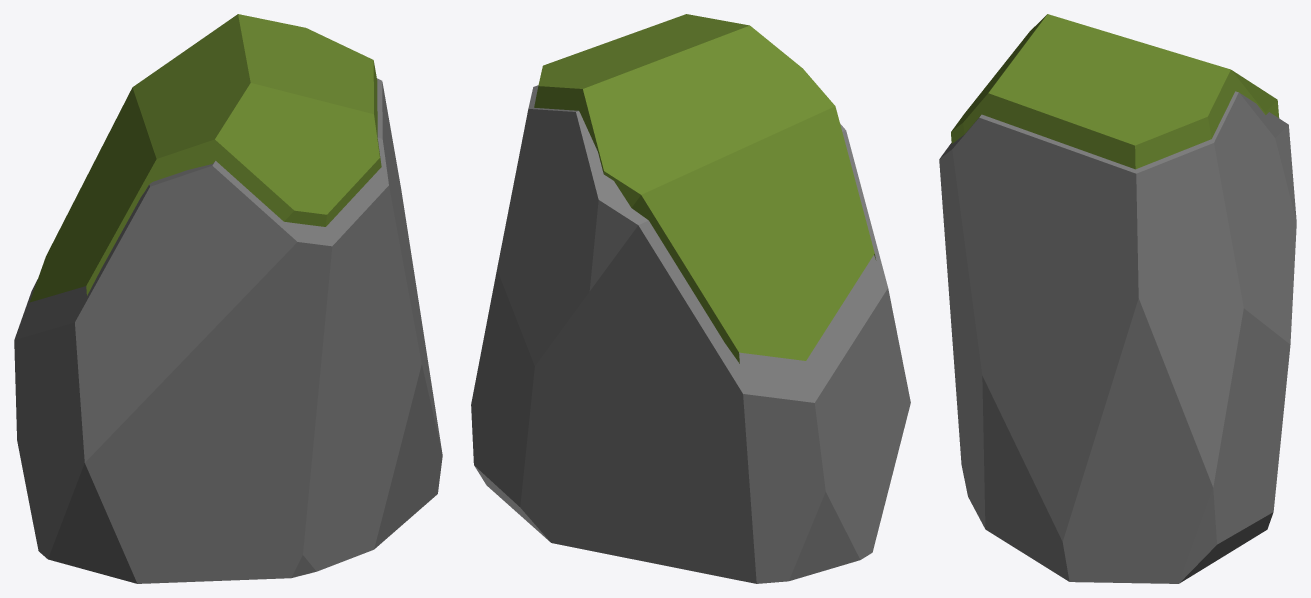
The model's file is Stone_5_moss_mat.fbx.
3 views of the same model, side by side, from view 1: azimuth 30°, elevation 25°; view 2: azimuth 150°, elevation 25°; view 3: azimuth 270°, elevation 25° (orthographic). The views are drawn at different scales.
Visible parts, largest first — view 1: Stone_5_moss_mat; view 2: Stone_5_moss_mat; view 3: Stone_5_moss_mat.
Part boxes in pixels (x1,y1,x2,y2): Stone_5_moss_mat: [14, 14, 442, 583]; Stone_5_moss_mat: [471, 14, 910, 583]; Stone_5_moss_mat: [939, 14, 1296, 583].
Size of the model in its own units: 83.72 by 102 by 70.29.
